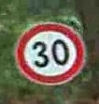limite 30: (12, 19, 87, 86)
